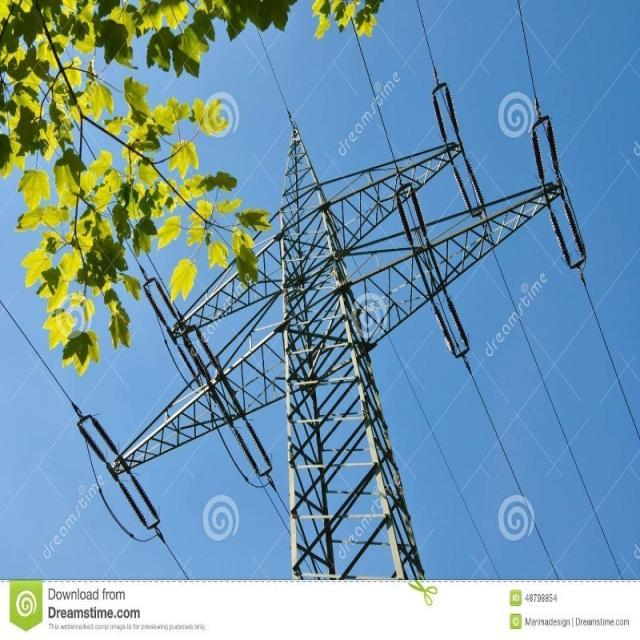non-critical vegetation: (163, 146, 494, 564)
